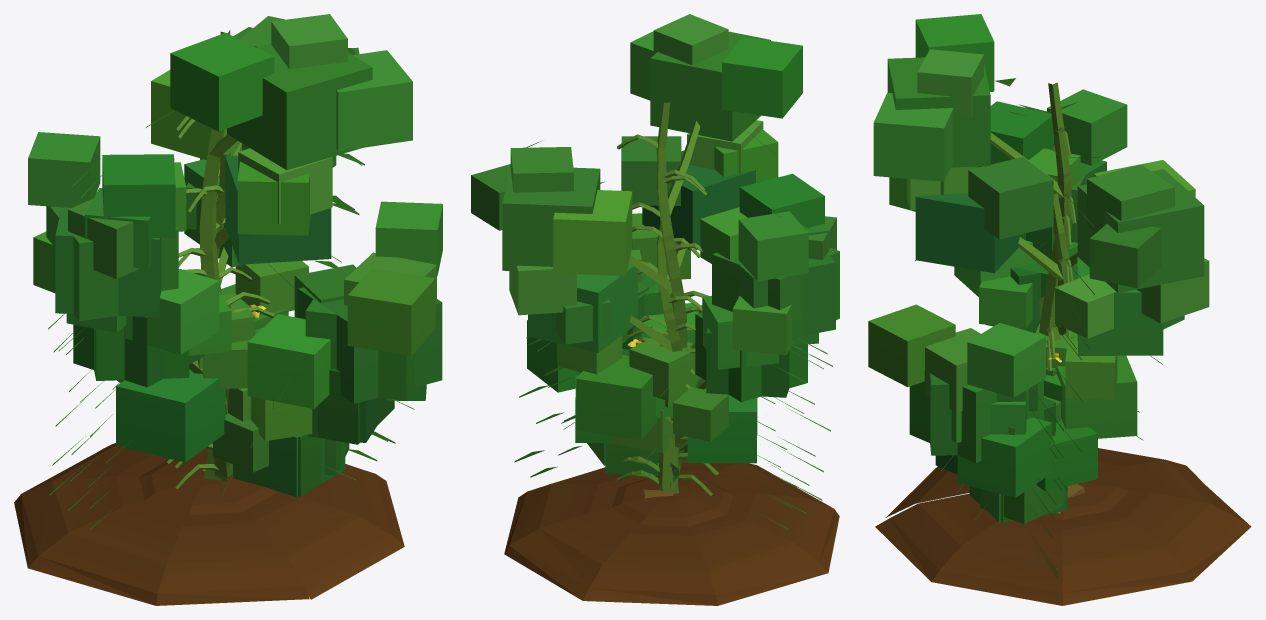
Rendered from pepper.glb.
3 renders of one model, left to right at view 1: azimuth 30°, elevation 25°; view 2: azimuth 150°, elevation 25°; view 3: azimuth 270°, elevation 25°, orthographic. The views are drawn at different scales.
Parts seen in each view (by area): view 1: stage4_foliage, stage2_soil, stage3_foliage, stage2_foliage, stage4_l1_foliage, stage3_l1_foliage, stage0_soil, stage2_l1_foliage, stage4_l1_stem, stage4_stem, stage3_stem, stage3_l1_stem; view 2: stage4_foliage, stage2_soil, stage3_foliage, stage2_foliage, stage4_l1_foliage, stage0_soil, stage4_stem, stage3_l1_foliage, stage4_l1_stem, stage3_stem, stage2_l1_foliage, stage3_l1_stem; view 3: stage4_foliage, stage2_soil, stage3_foliage, stage4_l1_foliage, stage2_foliage, stage2_l1_foliage, stage3_l1_foliage, stage4_stem, stage0_soil, stage4_l1_stem, stage3_stem.
Part boxes in pixels (x1,y1,x2,y2): stage4_foliage: (28, 14, 435, 400); stage2_soil: (14, 443, 404, 605); stage3_foliage: (33, 143, 426, 444); stage2_foliage: (116, 261, 349, 496); stage4_l1_foliage: (55, 188, 442, 403); stage3_l1_foliage: (66, 269, 377, 442); stage0_soil: (138, 456, 276, 514); stage2_l1_foliage: (233, 397, 345, 496); stage4_l1_stem: (176, 30, 274, 480); stage4_stem: (177, 32, 270, 464); stage3_stem: (167, 152, 251, 464); stage3_l1_stem: (189, 153, 229, 459); stage4_foliage: (471, 14, 839, 343); stage2_soil: (504, 461, 839, 605); stage3_foliage: (509, 120, 794, 397); stage2_foliage: (557, 334, 757, 474); stage4_l1_foliage: (622, 216, 836, 349); stage0_soil: (612, 476, 733, 526); stage4_stem: (617, 100, 707, 491); stage3_l1_foliage: (622, 302, 818, 402); stage4_l1_stem: (622, 102, 708, 493); stage3_stem: (616, 222, 718, 483); stage2_l1_foliage: (575, 375, 658, 475); stage3_l1_stem: (616, 227, 705, 483); stage4_foliage: (868, 14, 1204, 462); stage2_soil: (875, 448, 1251, 605); stage3_foliage: (889, 157, 1209, 497); stage4_l1_foliage: (925, 160, 1106, 455); stage2_foliage: (969, 324, 1137, 524); stage2_l1_foliage: (987, 420, 1097, 522); stage3_l1_foliage: (935, 240, 1055, 474); stage4_stem: (990, 83, 1077, 358); stage0_soil: (1043, 469, 1128, 519); stage4_l1_stem: (1039, 82, 1071, 371); stage3_stem: (1018, 193, 1073, 513).
Size of the model in its own units: 0.5997 by 0.8834 by 0.5637.
